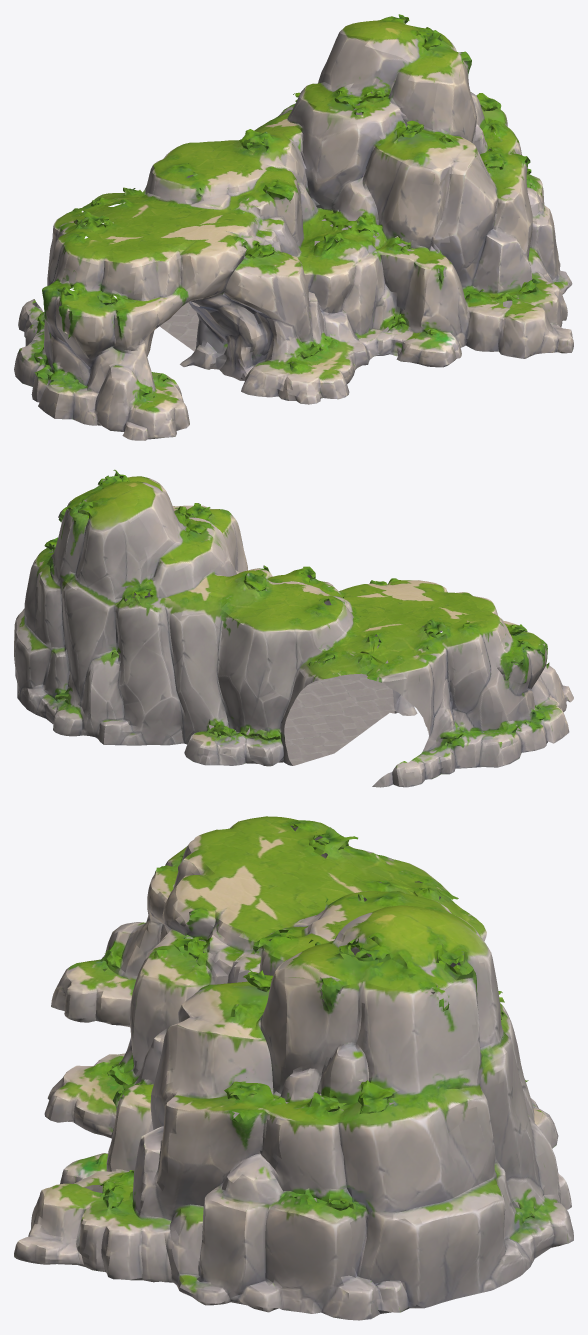
Rendered from crash-coastal-headland.glb.
3 views of the same model, one above another, from view 1: azimuth 30°, elevation 25°; view 2: azimuth 150°, elevation 25°; view 3: azimuth 270°, elevation 25° (orthographic). The views are drawn at different scales.
Parts seen in each view (by area): view 1: Mesh0; view 2: Mesh0; view 3: Mesh0.
Part boxes in pixels (x1,y1,x2,y2): Mesh0: [14, 14, 573, 440]; Mesh0: [14, 469, 573, 787]; Mesh0: [14, 816, 573, 1320].
Bounding box in the file's own units: 180 × 72.99 × 118.
Materials: 1 (1 with a texture image).
